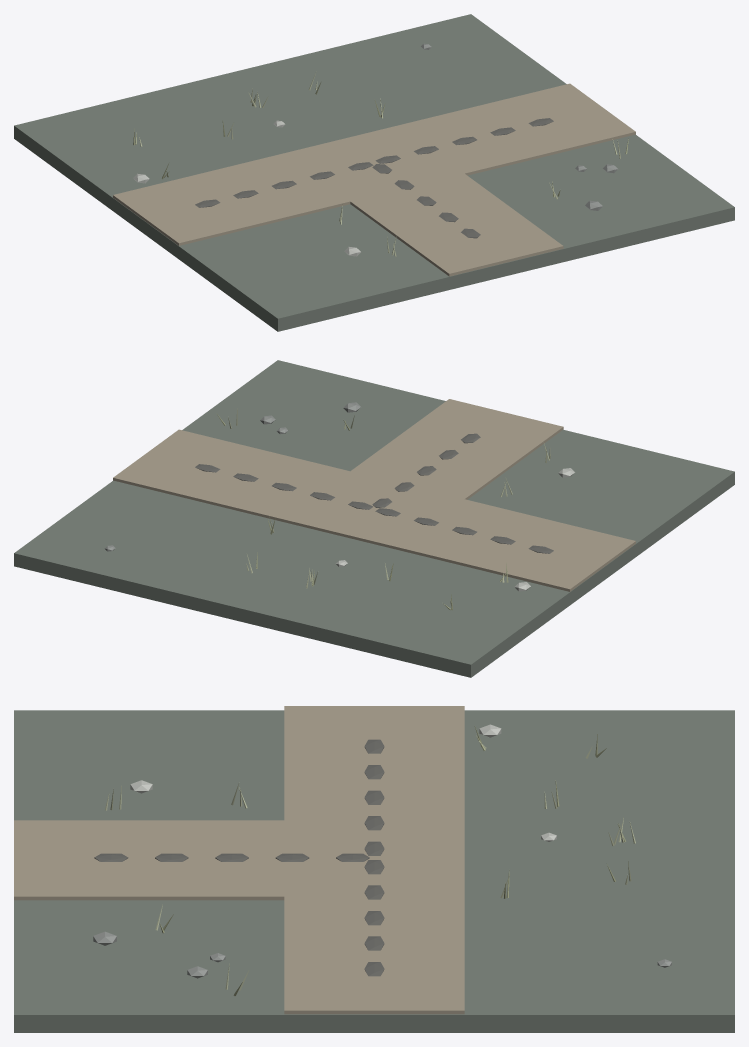
The model's file is path_tee_esw.glb.
The picture shows the model from 3 angles, top to bottom: view 1: azimuth 30°, elevation 25°; view 2: azimuth 150°, elevation 25°; view 3: azimuth 270°, elevation 25°; orthographic projection. The views are drawn at different scales.
Parts seen in each view (by area): view 1: road_material_00, road_material_01, road_material_06; view 2: road_material_00, road_material_01, road_material_06; view 3: road_material_00, road_material_01, road_material_06, road_material_03, road_material_05, road_material_04.
Part boxes in pixels (box(x1,y1,x2,y2)): road_material_00: box(14, 14, 734, 331); road_material_01: box(113, 83, 635, 276); road_material_06: box(195, 118, 553, 238); road_material_00: box(14, 360, 734, 677); road_material_01: box(113, 399, 635, 591); road_material_06: box(195, 433, 553, 553); road_material_00: box(14, 710, 734, 1032); road_material_01: box(14, 706, 464, 1014); road_material_06: box(94, 739, 384, 976); road_material_03: box(105, 741, 635, 990); road_material_05: box(93, 931, 671, 978); road_material_04: box(130, 724, 556, 841).
Size of the model in its own units: 8 by 0.5358 by 8.
